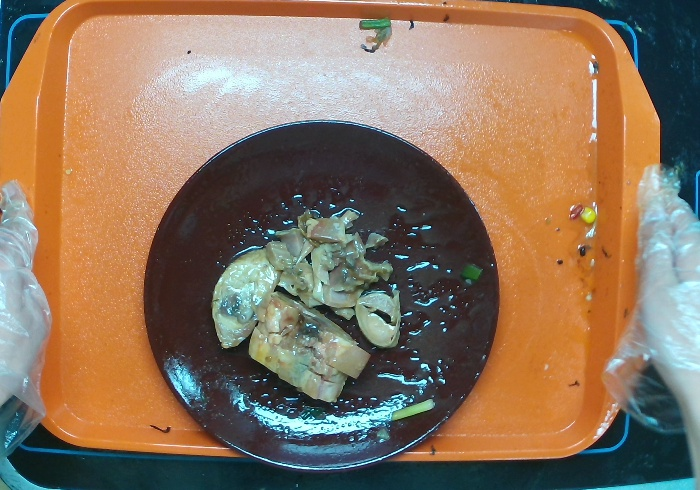HZYJPL-Ka_Fei_Yuan_Pan: (135, 112, 506, 481)
